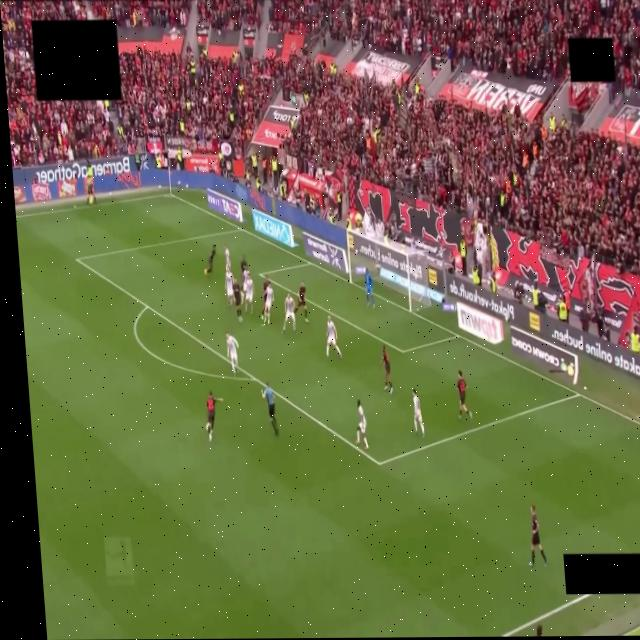player: (529, 505, 546, 566), (206, 392, 221, 442), (457, 371, 471, 419), (326, 317, 341, 358), (380, 345, 392, 393), (412, 389, 424, 436), (356, 400, 367, 450), (294, 282, 307, 322), (282, 294, 295, 333), (226, 333, 238, 374), (224, 268, 236, 307), (243, 270, 253, 312), (233, 279, 242, 322), (364, 269, 374, 307), (261, 277, 269, 321), (264, 285, 273, 324), (204, 246, 215, 276), (240, 255, 247, 280), (224, 245, 231, 269)
referee: (261, 382, 277, 435)
